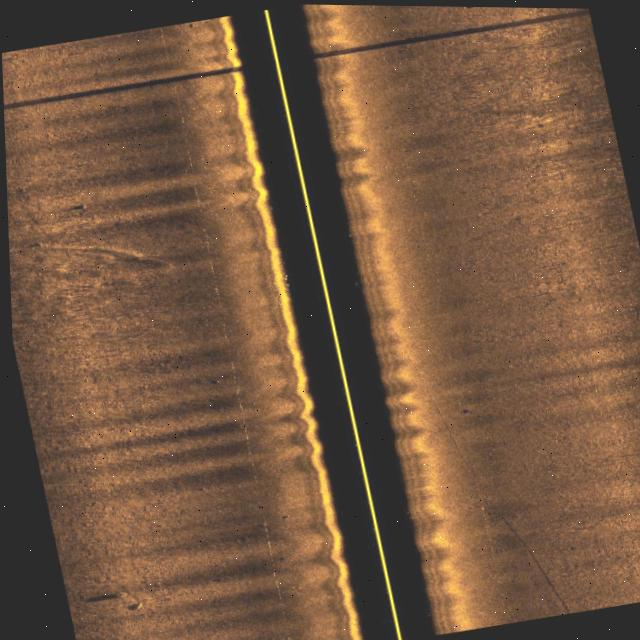mine: (117, 597, 139, 610)
